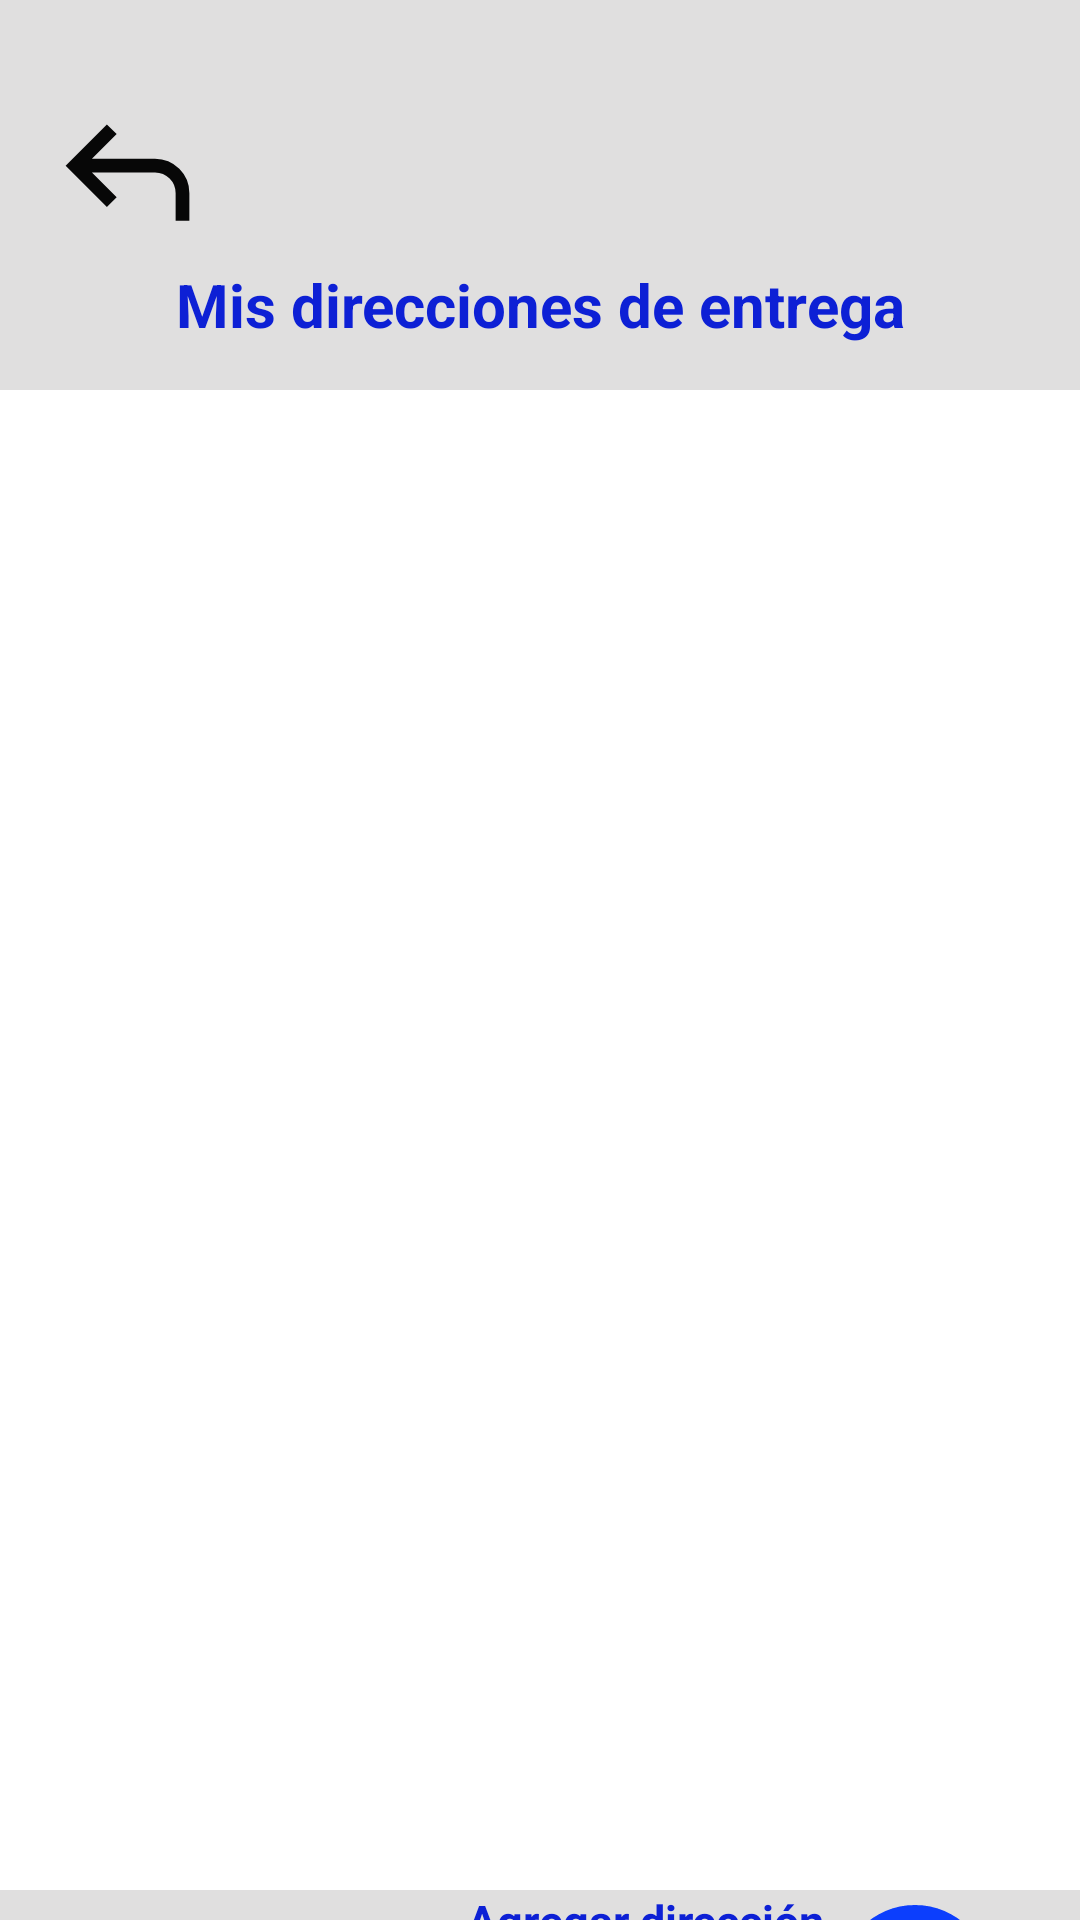

Locate icon controls on the screen. Image size 1080w x 1920h, boxes as box=[x1, y1, x2, y2].
regresar: box=[65, 124, 190, 221]
